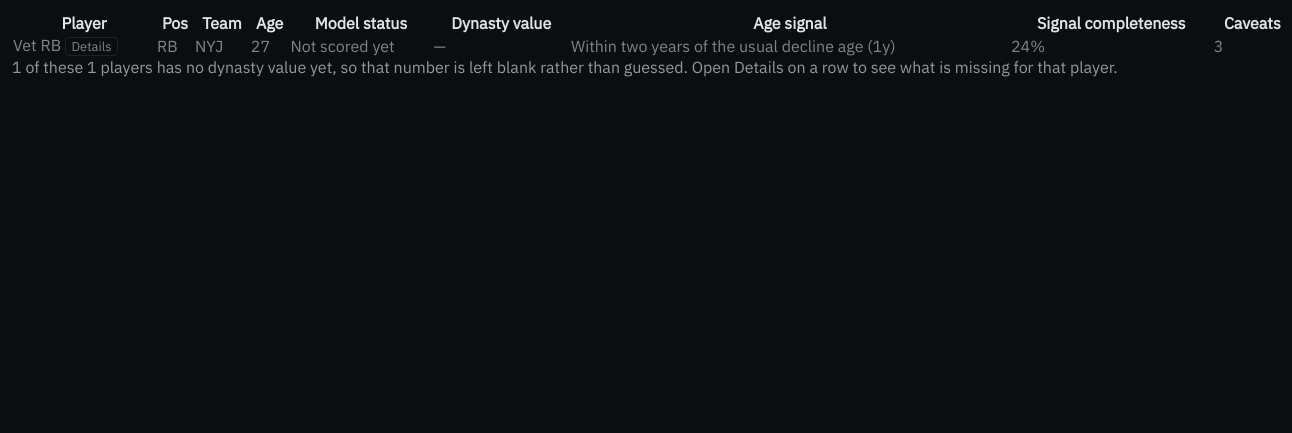
it: RosterAuditTable › row-expand reveals detail (counter-argument, drivers, full caveats)
Click the button with aria-label "details for vet rb" at [91, 46], box [65, 37, 118, 56]
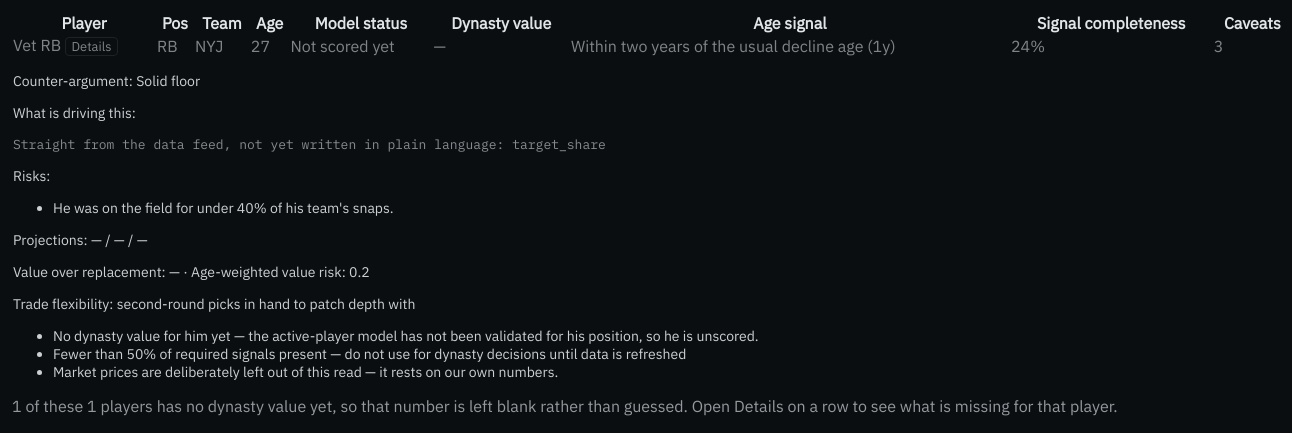
Expected: the list item "do not use for dynasty decisions" is shown, [53, 345, 686, 363]
